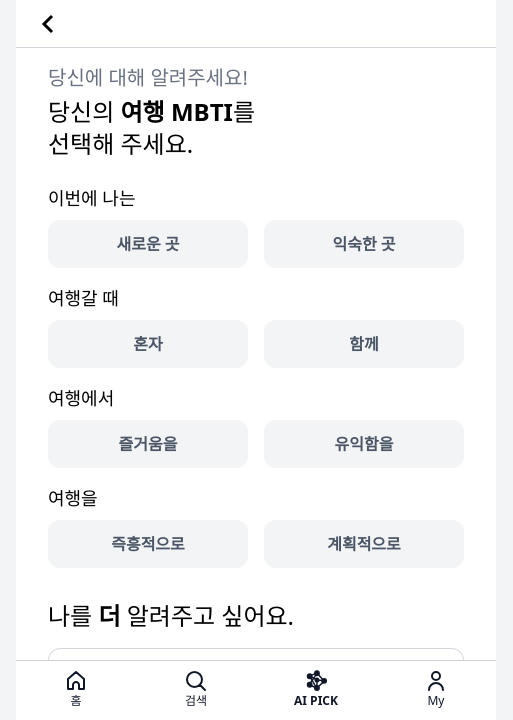
Test case: PickPage 테스트 › MBTI 선택 화면 (유효한 style 파라미터) › MBTI 4개 선택 전에는 추천 받기 버튼이 비활성화이고, MBTI 4개 선택 시 활성화된다
각 질문에 대해 하나씩 선택했을 때
Click the button "새로운 곳". click: (148,244)
box: 48,220 -> 248,268
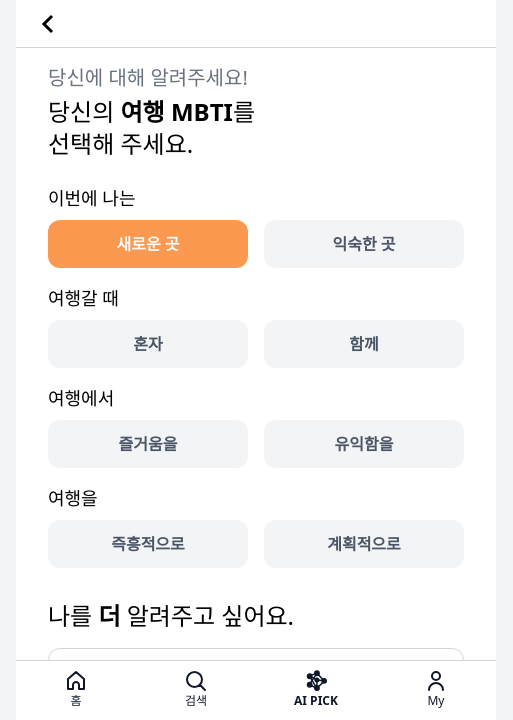
Click the button "혼자". click: (148,344)
box: 48,320 -> 248,368
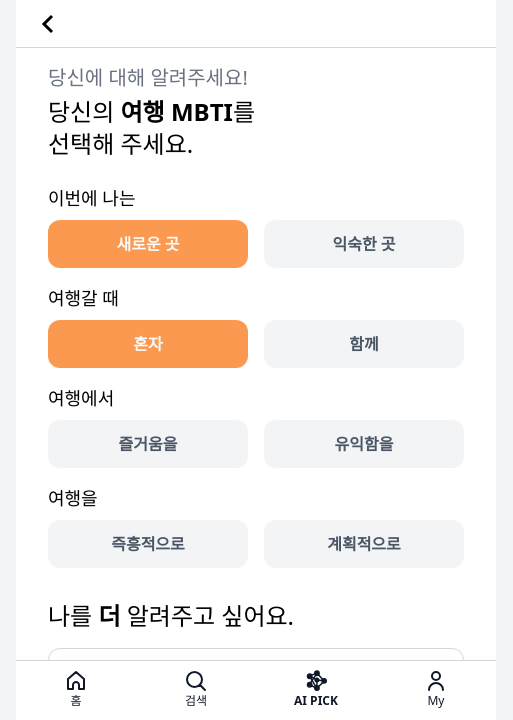
Click the button "즐거움을". click: (148,444)
box: 48,420 -> 248,468
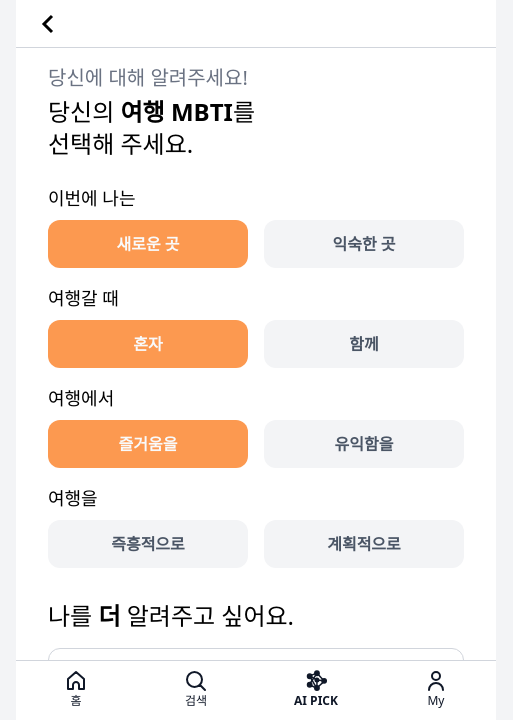
Click the button "즉흥적으로". click: (148,544)
box: 48,520 -> 248,568
(page scrolled)
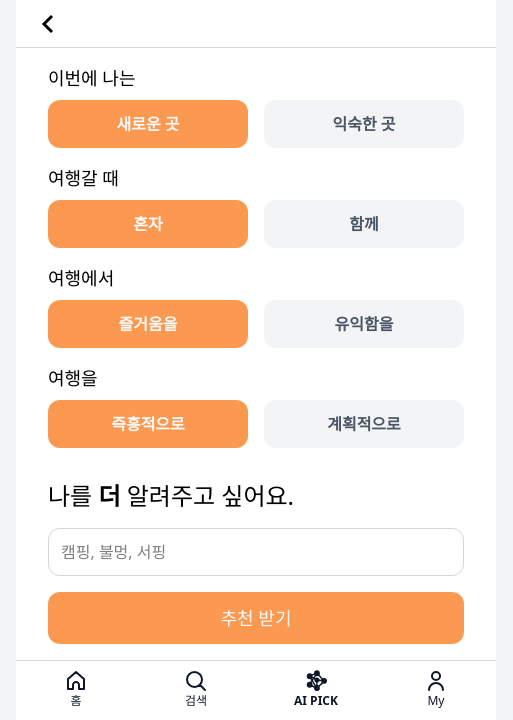
Expected: the button "추천 받기" is enabled, 48,592 -> 464,644
